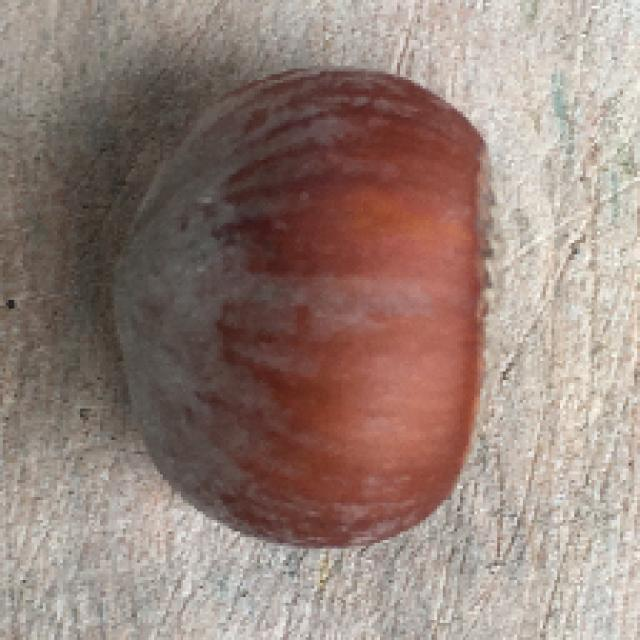qualityHazelnut: (90, 58, 514, 556)
